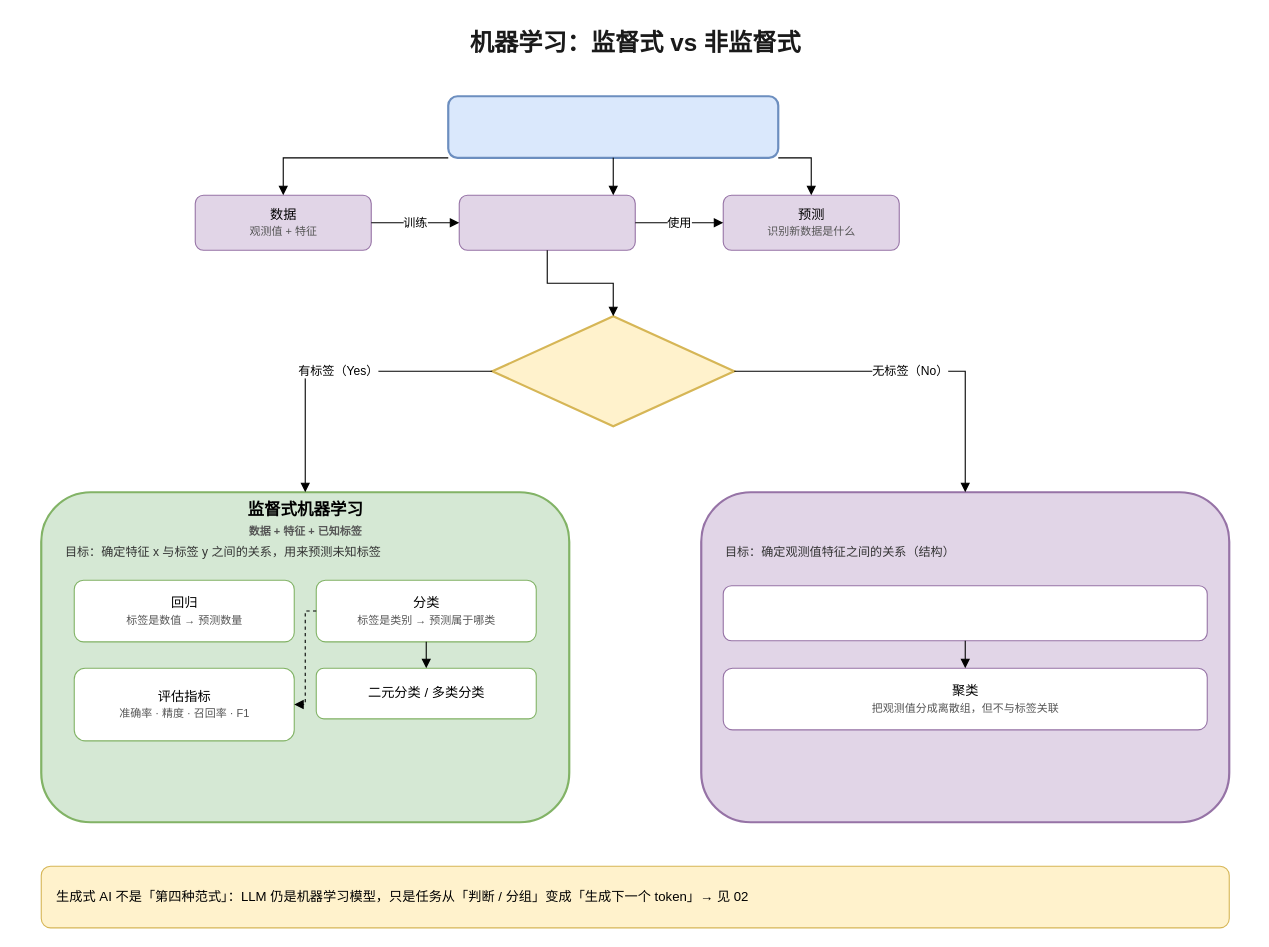
This 1269x947 diagram has some shape labels left out. Here are the shapes that lost their labels. From the top down, the box of each, then its label:
(447, 95, 779, 158): 机器学习 1990s+ · 从数据中学习规律
(458, 194, 635, 250): 模型 找出数据间关系的数学模型
(491, 315, 735, 427): 训练数据 有标签吗？
(722, 585, 1207, 641): 发现结构：相似的东西聚在一起
(700, 491, 1230, 823): 非监督式机器学习 数据 + 特征，没有标签
